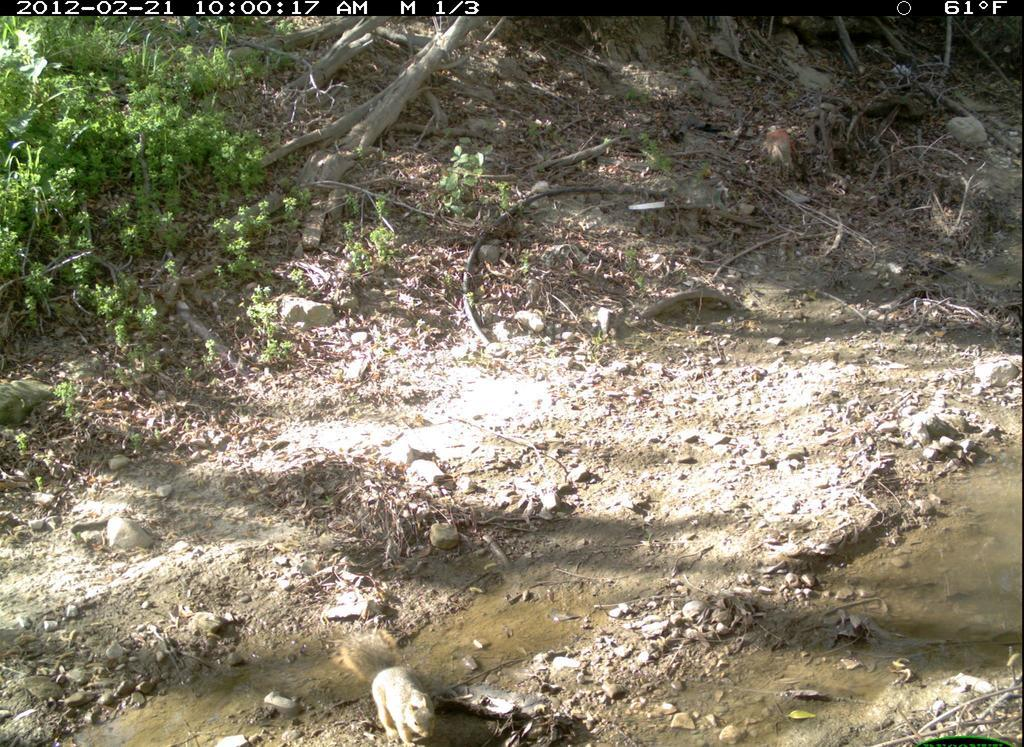squirrel: (340, 619, 440, 743)
